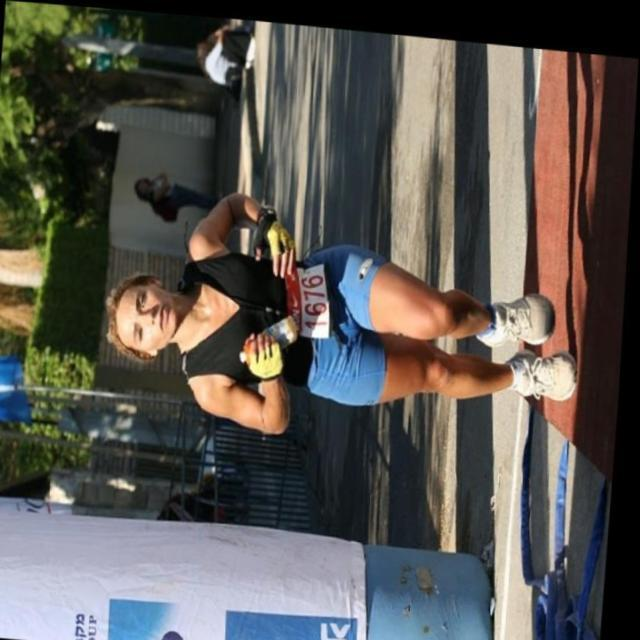dorsal: (283, 246, 340, 342)
